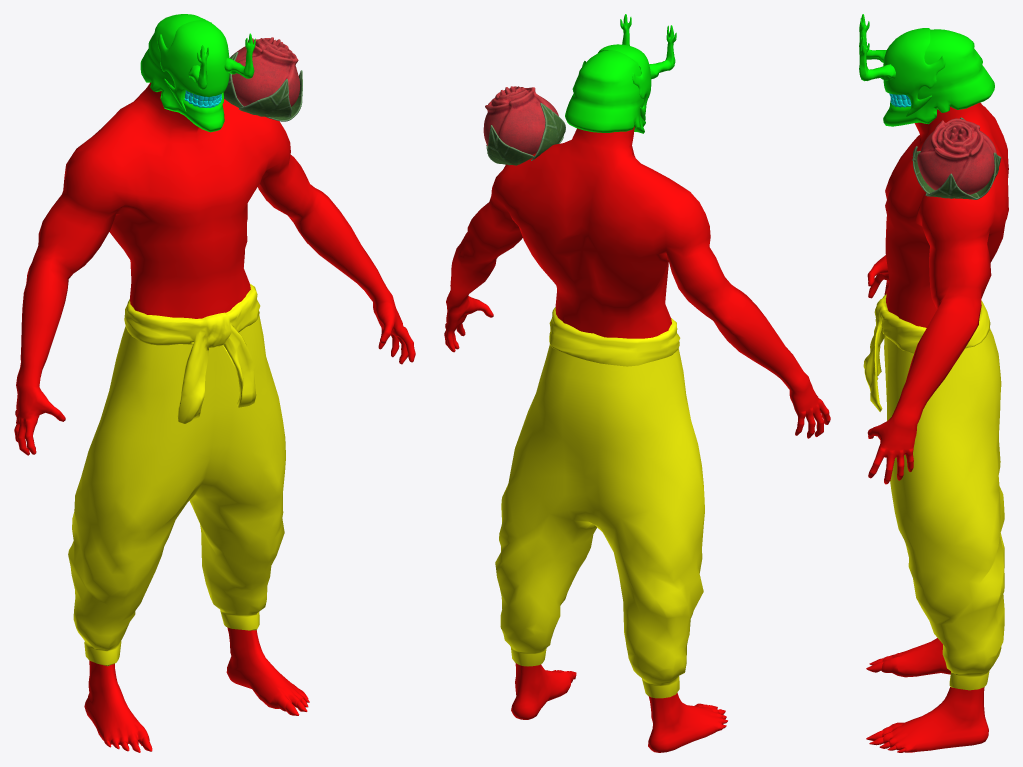
Rendered from Hanami with flower.fbx.
3 renders of one model, left to right at view 1: azimuth 30°, elevation 25°; view 2: azimuth 150°, elevation 25°; view 3: azimuth 270°, elevation 25°, orthographic. The views are drawn at different scales.
Parts seen in each view (by area): view 1: Hanami, Leaf; view 2: Hanami, Leaf; view 3: Hanami, Leaf.
Boxes of the visible parts, x1,y1,x2,y2 form: Hanami: (14, 14, 415, 752); Leaf: (224, 37, 302, 121); Hanami: (444, 14, 830, 752); Leaf: (483, 86, 565, 165); Hanami: (859, 14, 1008, 752); Leaf: (912, 117, 1001, 199).
Size of the model in its own units: 113 by 193 by 38.43.
